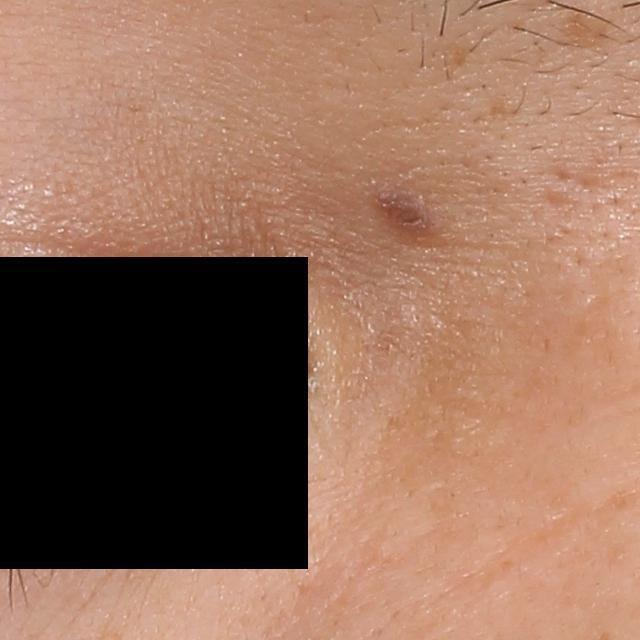nevus: (367, 181, 433, 240)
